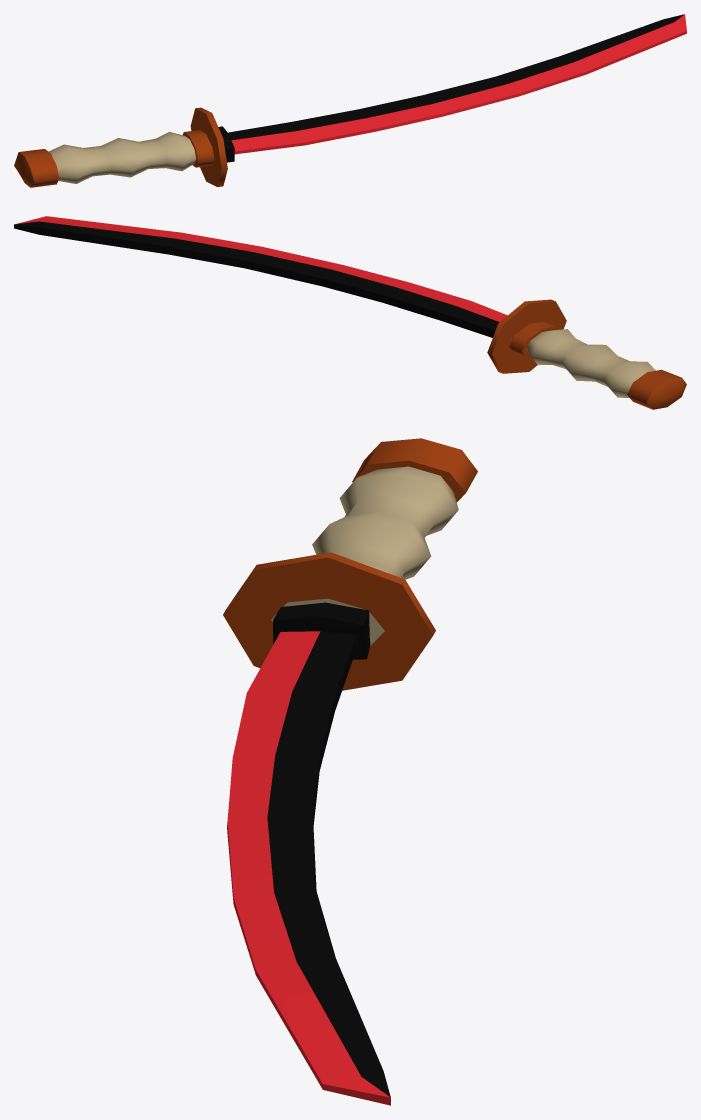
The model's file is Katana.fbx.
The picture shows the model from 3 angles, top to bottom: view 1: azimuth 30°, elevation 25°; view 2: azimuth 150°, elevation 25°; view 3: azimuth 270°, elevation 25°; orthographic projection. The views are drawn at different scales.
Visible parts, largest first — view 1: Box002, Cylinder002; view 2: Box002, Cylinder002; view 3: Box002, Cylinder002.
Part boxes in pixels (x1,y1,x2,y2): Box002: [218, 14, 686, 162]; Cylinder002: [14, 107, 227, 187]; Box002: [14, 216, 507, 337]; Cylinder002: [487, 299, 686, 409]; Box002: [227, 602, 390, 1105]; Cylinder002: [223, 438, 477, 690].
Size of the model in its own units: 569 by 55.72 by 95.01.
